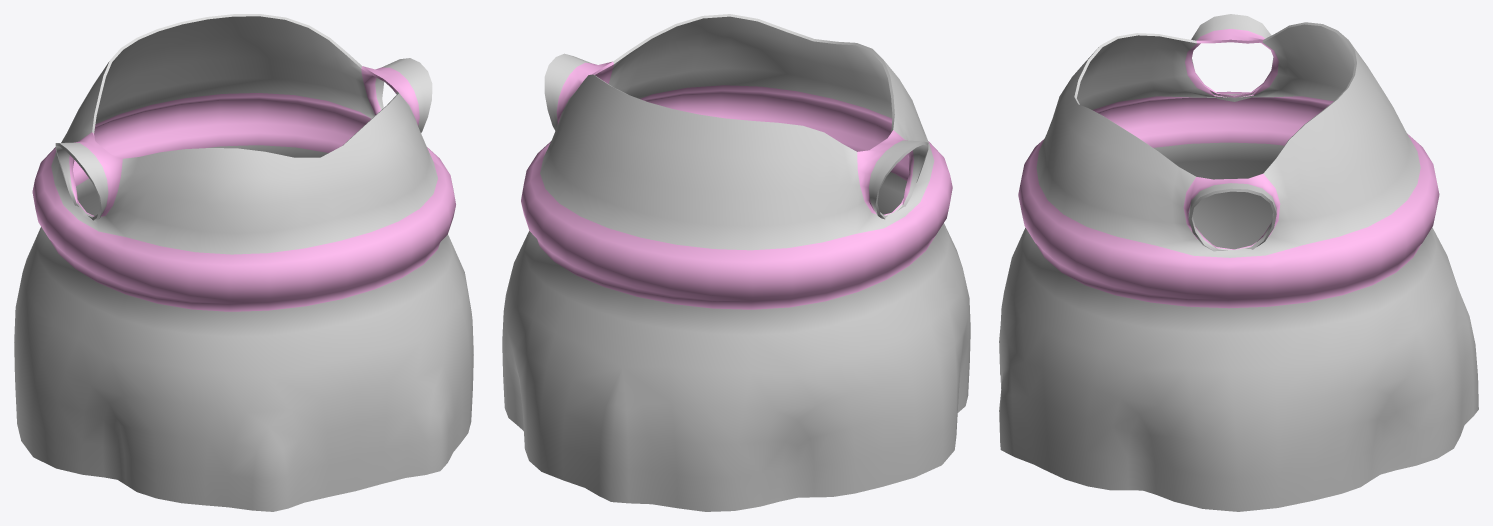
3 renders of one model, left to right at view 1: azimuth 30°, elevation 25°; view 2: azimuth 150°, elevation 25°; view 3: azimuth 270°, elevation 25°, orthographic.
Visible parts, largest first — view 1: wedding_gown; view 2: wedding_gown; view 3: wedding_gown.
Part boxes in pixels (bbox=[...]): wedding_gown: bbox=[14, 14, 473, 511]; wedding_gown: bbox=[502, 14, 970, 511]; wedding_gown: bbox=[999, 14, 1478, 511].
Bounding box in the file's own units: 1.65 × 1.3 × 1.63.
